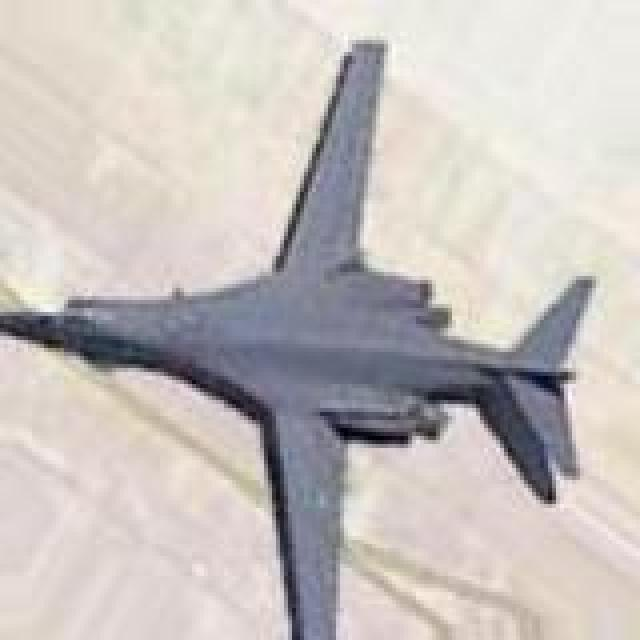B-1_TopDown: (0, 32, 596, 636)
